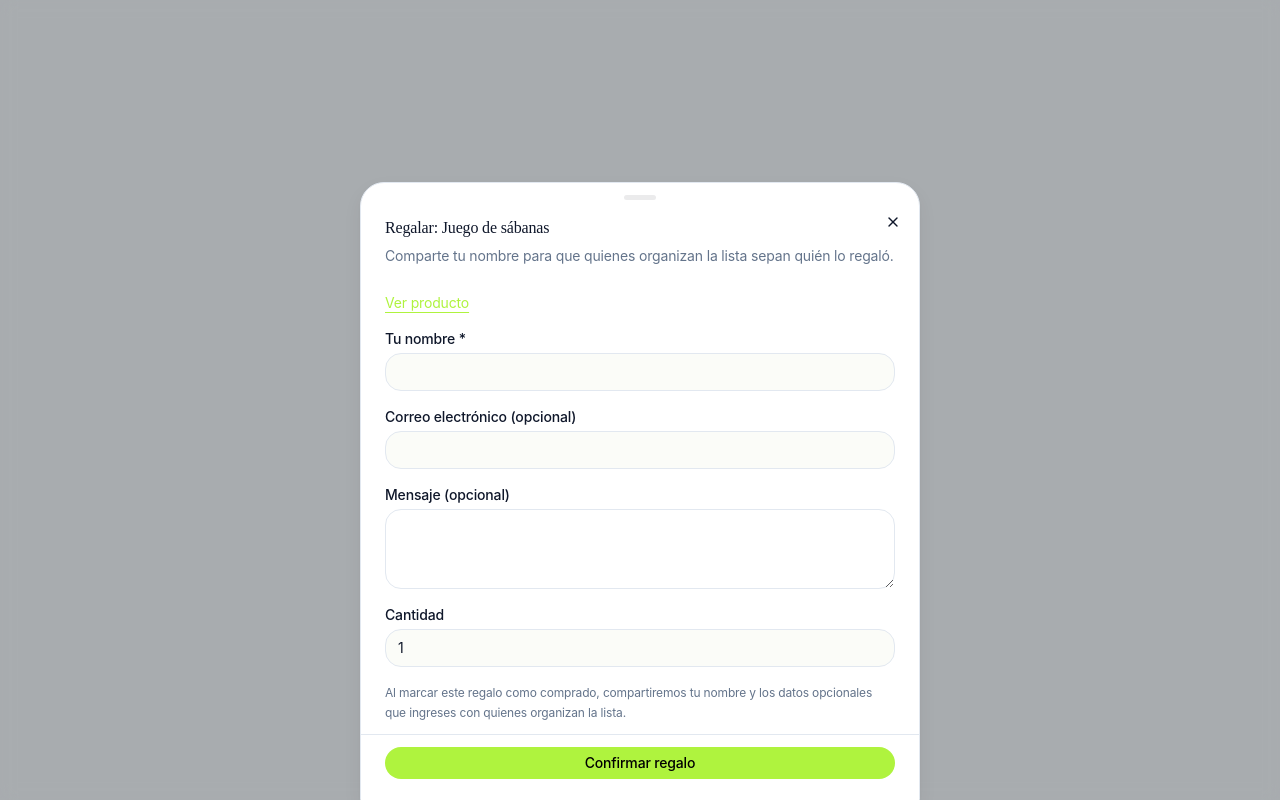
GuestGiftDrawer › validates quantity boundaries
Step 1. Replace the text in the number field labelled "Cantidad" with "8" → coordinates (640, 648), box [385,629,895,667]
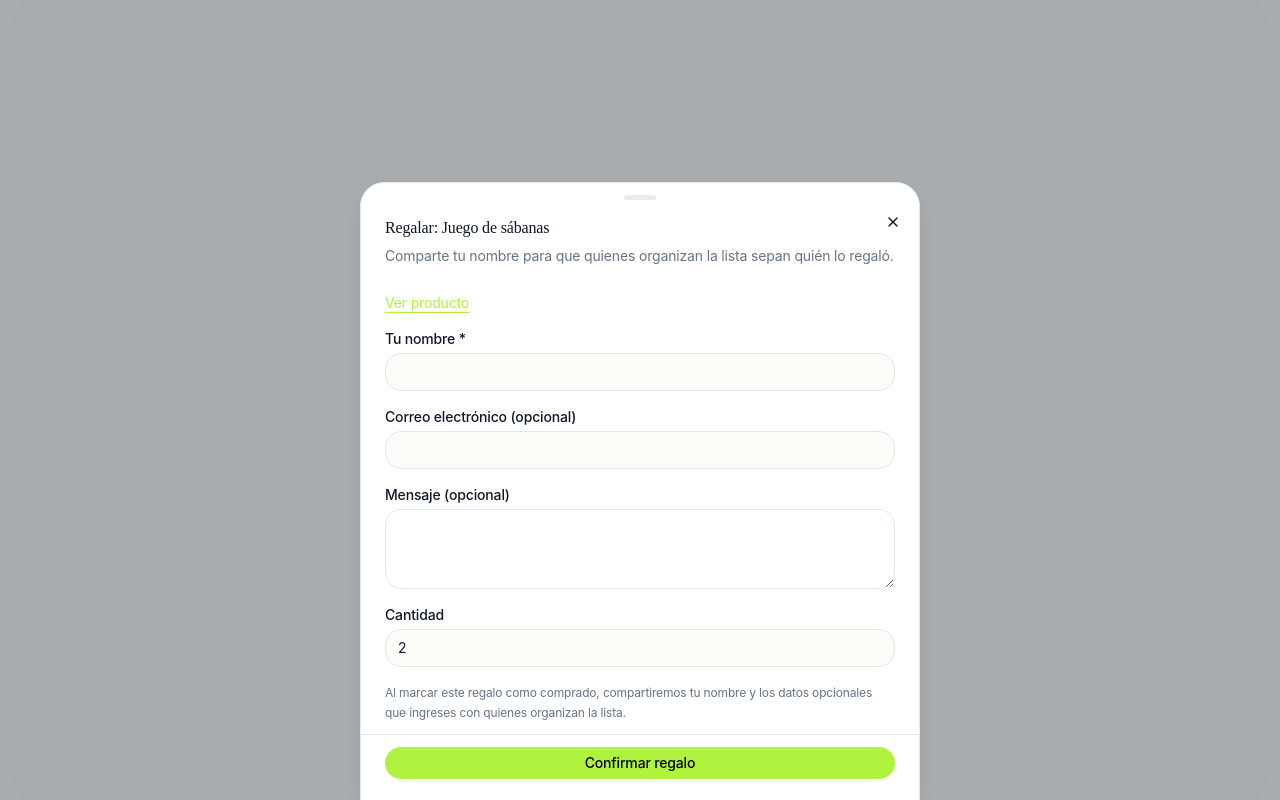
Result: the number field labelled "Cantidad" holds "2" at [385,629,895,667]
